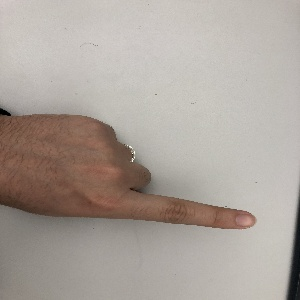hand: (15, 115, 256, 229)
